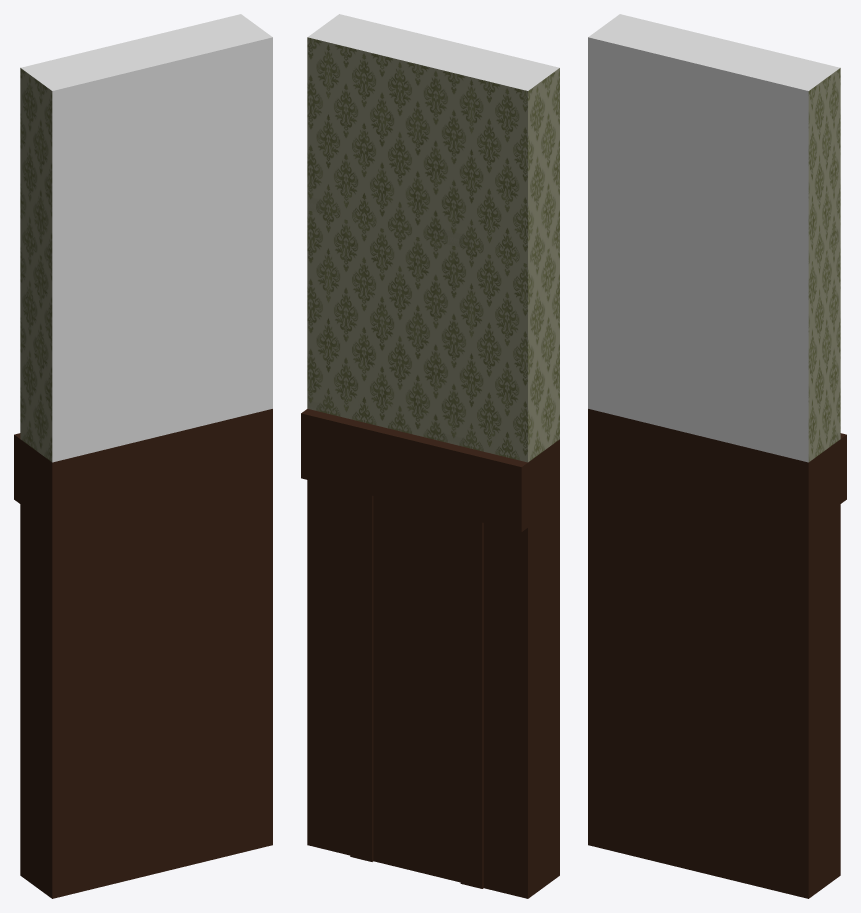
File: Kitchen Wall 3 X.fbx
The picture shows the model from 3 angles, left to right: view 1: azimuth 30°, elevation 25°; view 2: azimuth 150°, elevation 25°; view 3: azimuth 330°, elevation 25°; orthographic projection.
Visible parts, largest first — view 1: Cube.029; view 2: Cube.029; view 3: Cube.029.
Part boxes in pixels (x1=…): Cube.029: x1=14, y1=14, x2=272, y2=898; Cube.029: x1=301, y1=14, x2=559, y2=898; Cube.029: x1=588, y1=14, x2=846, y2=898.
Bounding box in the file's own units: 200 × 700 × 60.
